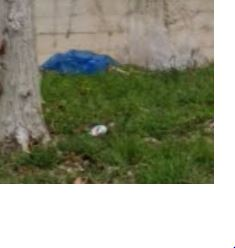trash: (31, 44, 123, 79), (86, 119, 115, 139)
